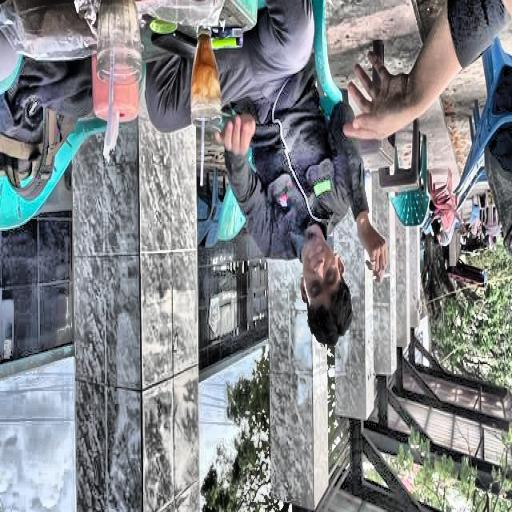Rokok: (300, 229, 344, 309), (355, 210, 390, 283)
